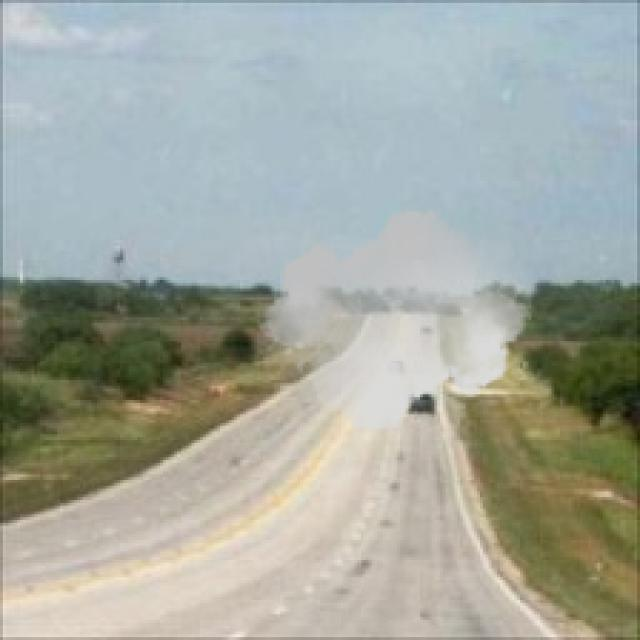Smoke: (257, 200, 532, 440)
